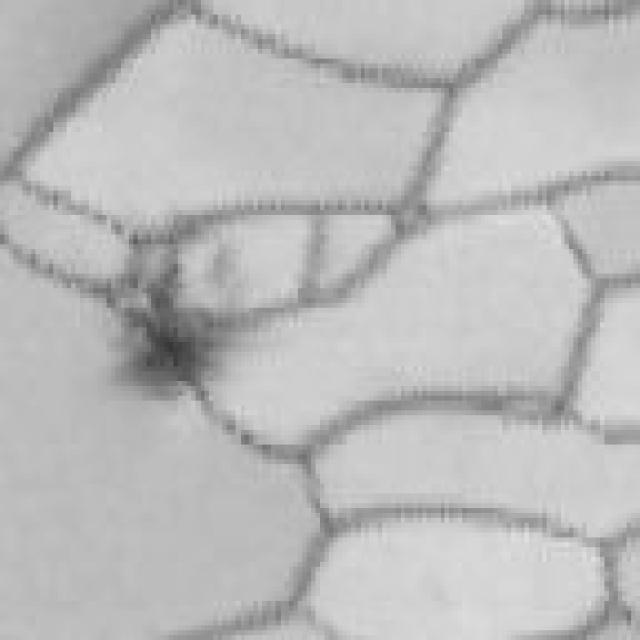good_void: (104, 270, 213, 405)
